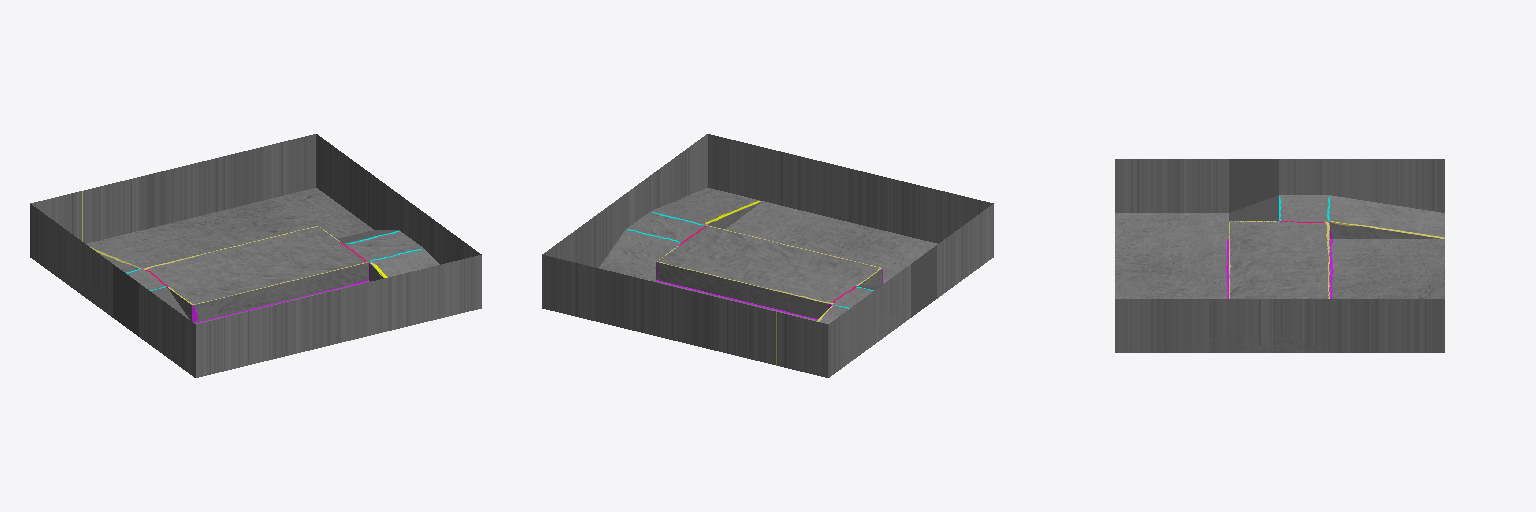
The picture shows the model from 3 angles: view 1: azimuth 30°, elevation 25°; view 2: azimuth 150°, elevation 25°; view 3: azimuth 270°, elevation 25°; orthographic projection.
Parts seen in each view (by area): view 1: Plane; view 2: Plane; view 3: Plane.
Boxes of the visible parts, x1,y1,x2,y2 form: Plane: [30, 134, 481, 377]; Plane: [542, 134, 993, 377]; Plane: [1115, 159, 1444, 352].
Bounding box in the file's own units: 50 × 9 × 50.
Materials: 1 (1 with a texture image).